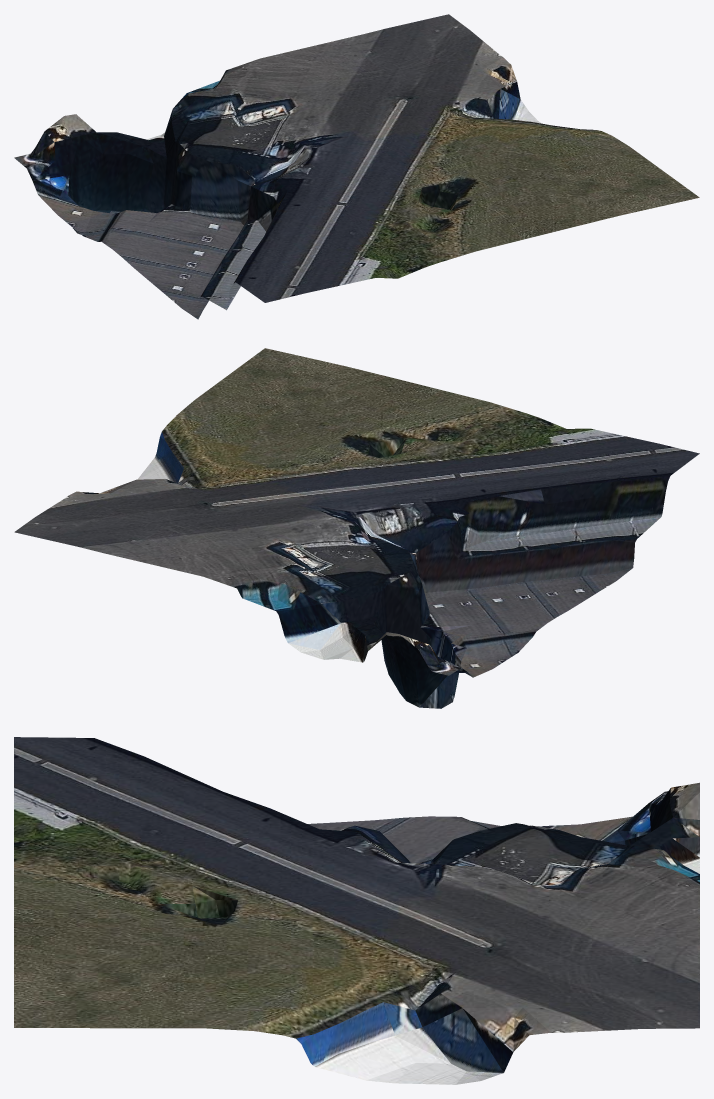
File: map_15_8183_13782.dae
The picture shows the model from 3 angles, top to bottom: view 1: azimuth 30°, elevation 25°; view 2: azimuth 150°, elevation 25°; view 3: azimuth 270°, elevation 25°; orthographic projection. The views are drawn at different scales.
Parts seen in each view (by area): view 1: Ter0; view 2: Ter0; view 3: Ter0.
Boxes of the visible parts, x1,y1,x2,y2 form: Ter0: (14,14,699,319); Ter0: (14,348,699,708); Ter0: (14,737,699,1084).
Bounding box in the file's own units: 63.87 × 63.88 × 14.16.
3 materials, 3 textured.
